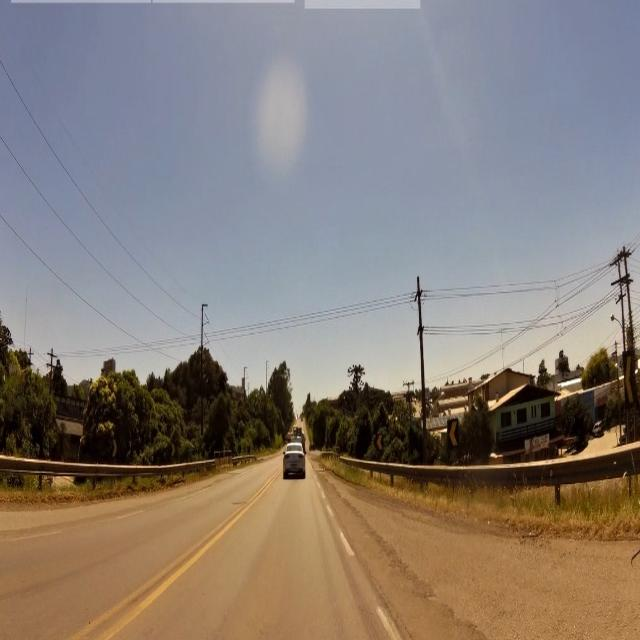Del: (448, 416, 459, 446), (376, 432, 386, 452)
